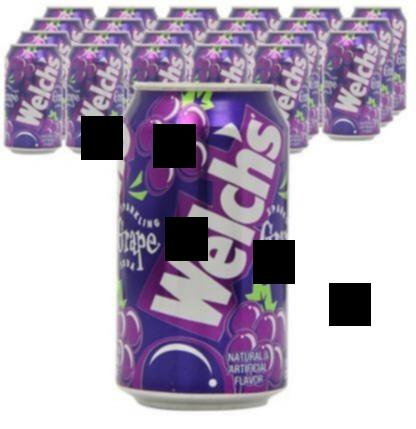welchs_grape: (109, 80, 296, 414), (322, 27, 383, 144), (3, 40, 56, 159)
